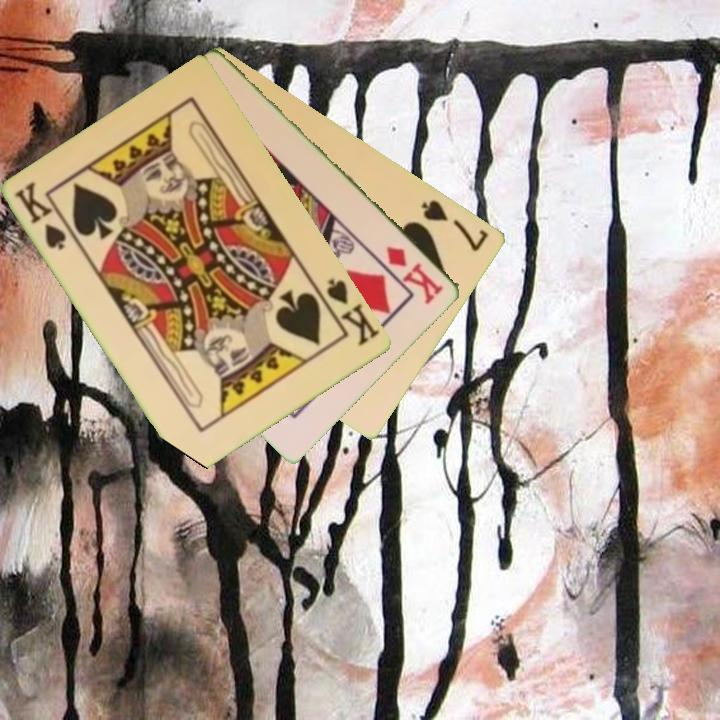7s: (418, 196, 492, 255)
Kd: (383, 242, 447, 306)
Ks: (323, 274, 383, 349), (11, 178, 70, 253)
